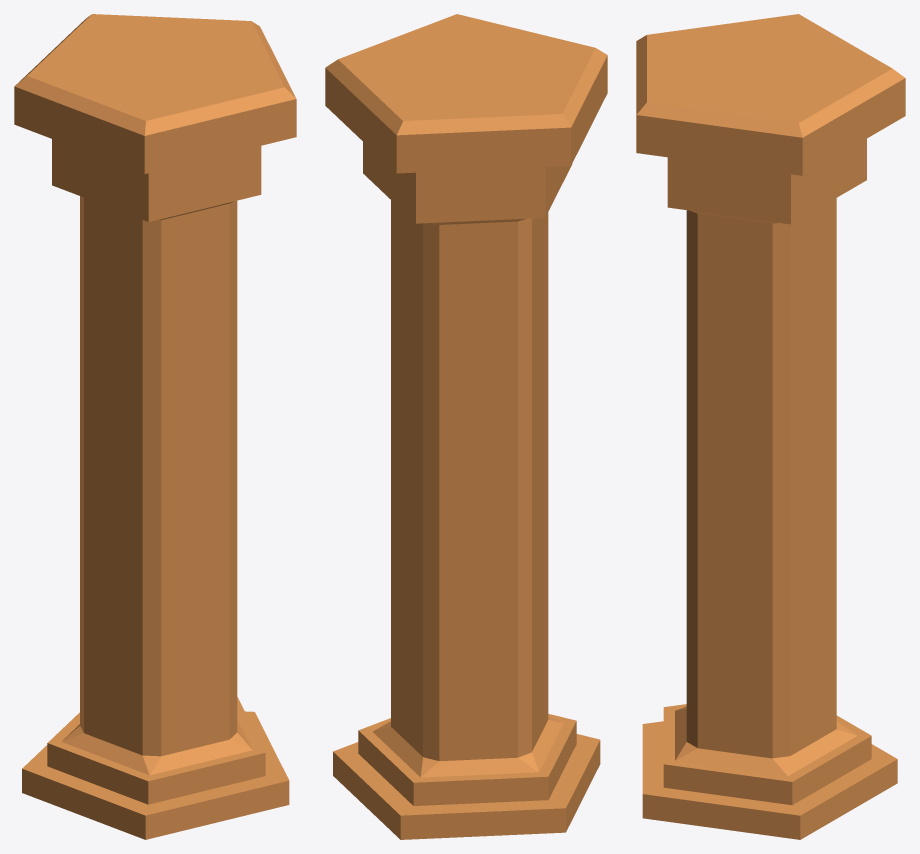
File: Kolon.fbx
The picture shows the model from 3 angles, left to right: view 1: azimuth 30°, elevation 25°; view 2: azimuth 150°, elevation 25°; view 3: azimuth 270°, elevation 25°; orthographic projection.
Parts seen in each view (by area): view 1: Circle; view 2: Circle; view 3: Circle.
Part boxes in pixels (bbox=[...]): Circle: bbox=[14, 14, 296, 839]; Circle: bbox=[325, 14, 607, 839]; Circle: bbox=[636, 14, 905, 839].
Bounding box in the file's own units: 0.7737 × 2.16 × 0.7358.
